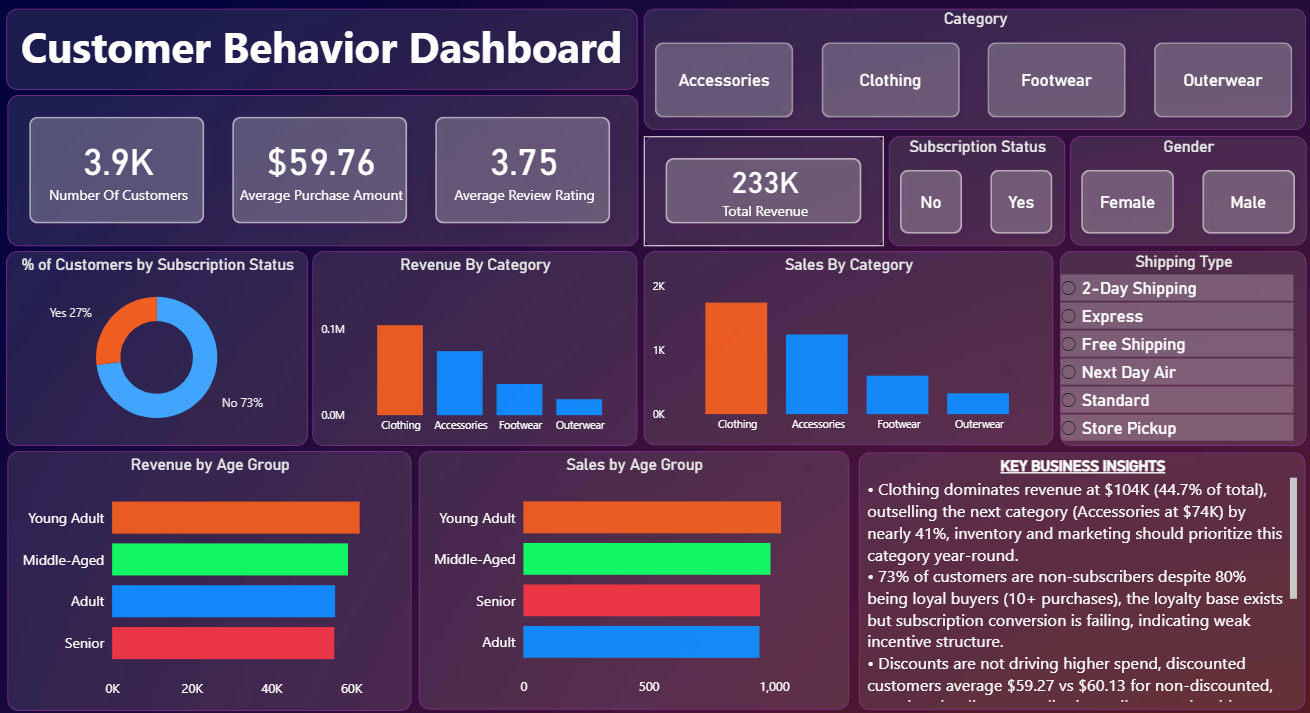

The page's visual inventory and layout, read from the dashboard file:
{"tool":"powerbi","page":{"name":"Page 1","canvas":[1500,820],"ordinal":0},"visuals":[{"type":"textbox","box":[7.5,10,721.2,92.5],"z":0},{"type":"donutChart","title":"% of Customers by Subscription Status","fields":{"Category":["public customer.subscription_status"],"Y":["CountNonNull(public customer.customer_id)"]},"box":[7.3,287.3,344.5,222.7],"z":1000},{"type":"clusteredColumnChart","title":"Revenue By Category","fields":{"Y":["Sum(public customer.purchase_amount)"],"Category":["public customer.category"]},"box":[357.3,287.3,370.9,222.7],"z":2000},{"type":"clusteredColumnChart","title":"Sales By Category","fields":{"Y":["CountNonNull(public customer.customer_id)"],"Category":["public customer.category"]},"box":[735.4,286.9,467.7,221.5],"z":3000},{"type":"advancedSlicerVisual","title":"Subscription Status","fields":{"Values":["public customer.subscription_status"]},"box":[1015.7,155.7,201.4,125.7],"z":4000},{"type":"advancedSlicerVisual","title":"Gender","fields":{"Values":["public customer.gender"]},"box":[1222.5,156.2,270,125],"z":5000},{"type":"advancedSlicerVisual","title":"Category","fields":{"Values":["public customer.category"]},"box":[735.7,10,757.1,138.6],"z":6000},{"type":"listSlicer","title":"Shipping Type","fields":{"Values":["public customer.shipping_type"]},"box":[1210.8,287.5,281.7,222.5],"z":7000},{"type":"clusteredBarChart","title":"Revenue by Age Group","fields":{"Y":["Sum(public customer.purchase_amount)"],"Category":["public customer.age_group"]},"box":[8.3,515,461.7,296.7],"z":8000},{"type":"clusteredBarChart","title":"Sales by Age Group","fields":{"Y":["CountNonNull(public customer.customer_id)"],"Category":["public customer.age_group"]},"box":[478.3,515,491.7,295],"z":9000},{"type":"cardVisual","fields":{"Data":["public customer.Number of customers","public customer.Average Purchase Amount","public customer.Average Review Rating"]},"box":[8.2,108.2,720.9,172.7],"z":10000},{"type":"cardVisual","fields":{"Data":["public customer.Total Revenue"]},"box":[735.8,155.8,274.2,125.8],"z":11000},{"type":"textbox","title":"KEY BUSINESS INSIGHTS","box":[980.8,516.9,510.8,294.6],"z":11001}]}

Visuals, with their boxes in screenshot pixels (x1, y1, x2, y2), scaled from the page's 1500x820 canvas onto the 1310x713 screenshot:
textbox: (x1=7, y1=9, x2=636, y2=89)
"% of Customers by Subscription Status" donutChart: (x1=6, y1=250, x2=307, y2=443)
"Revenue By Category" clusteredColumnChart: (x1=312, y1=250, x2=636, y2=443)
"Sales By Category" clusteredColumnChart: (x1=642, y1=249, x2=1051, y2=442)
"Subscription Status" advancedSlicerVisual: (x1=887, y1=135, x2=1063, y2=245)
"Gender" advancedSlicerVisual: (x1=1068, y1=136, x2=1303, y2=245)
"Category" advancedSlicerVisual: (x1=643, y1=9, x2=1304, y2=129)
"Shipping Type" listSlicer: (x1=1057, y1=250, x2=1303, y2=443)
"Revenue by Age Group" clusteredBarChart: (x1=7, y1=448, x2=410, y2=706)
"Sales by Age Group" clusteredBarChart: (x1=418, y1=448, x2=847, y2=704)
cardVisual - public customer.Number of customers x public customer.Average Purchase Amount: (x1=7, y1=94, x2=637, y2=244)
cardVisual - public customer.Total Revenue: (x1=643, y1=135, x2=882, y2=245)
"KEY BUSINESS INSIGHTS" textbox: (x1=857, y1=449, x2=1303, y2=706)
